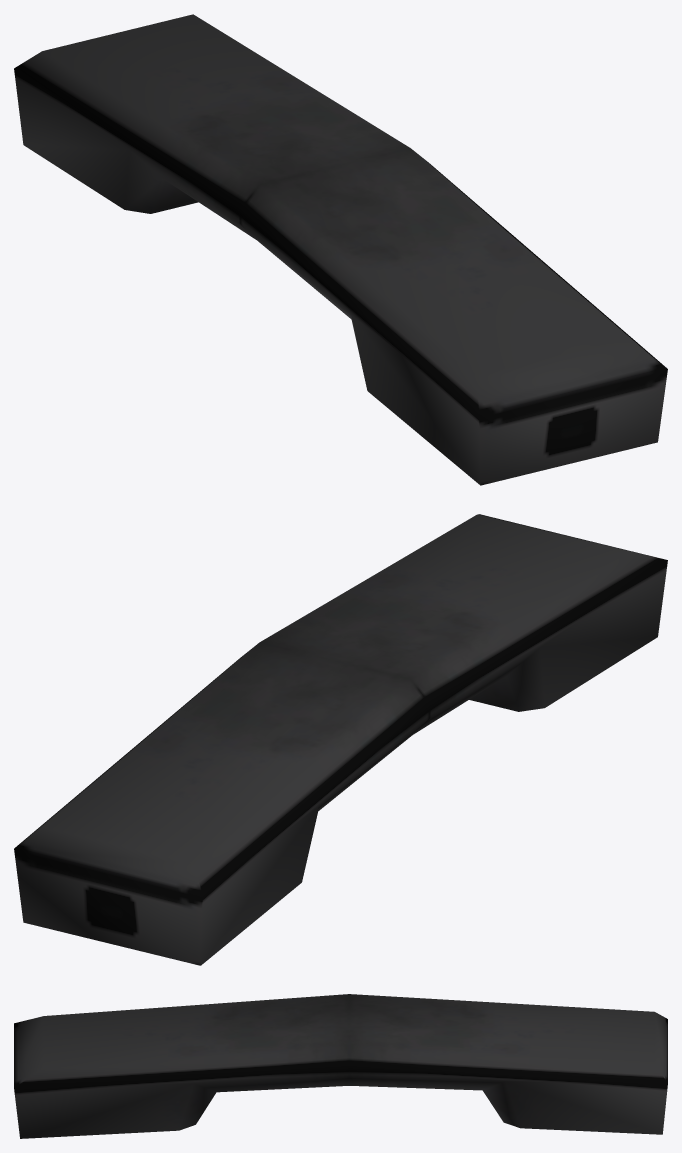
The model's file is wall_phone_reciever1_lod0.glb.
The picture shows the model from 3 angles, top to bottom: view 1: azimuth 30°, elevation 25°; view 2: azimuth 150°, elevation 25°; view 3: azimuth 270°, elevation 25°; orthographic projection. The views are drawn at different scales.
Parts seen in each view (by area): view 1: surf0; view 2: surf0; view 3: surf0.
Part boxes in pixels (<box>): surf0: <box>14,14,667,485</box>; surf0: <box>14,514,667,965</box>; surf0: <box>14,994,667,1138</box>.
Size of the model in its own units: 3.02 by 1.93 by 12.91.
